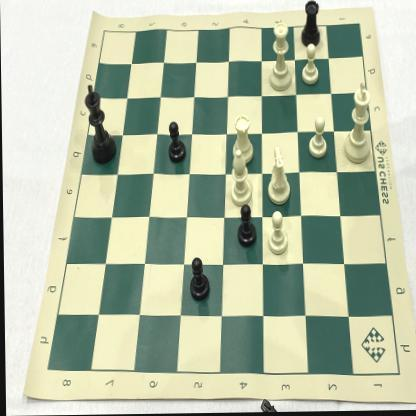black-king: (81, 82, 118, 169)
black-pawn: (184, 254, 211, 305), (233, 203, 259, 250), (165, 118, 188, 169)
black-rook: (297, 0, 325, 54)
white-bishop: (227, 146, 253, 213)
white-king: (339, 77, 375, 169)
white-knight: (264, 145, 292, 208)
white-pawn: (266, 208, 291, 260), (306, 114, 330, 163), (298, 43, 323, 89)
white-queen: (264, 18, 294, 94)
white-rook: (229, 110, 257, 169)
